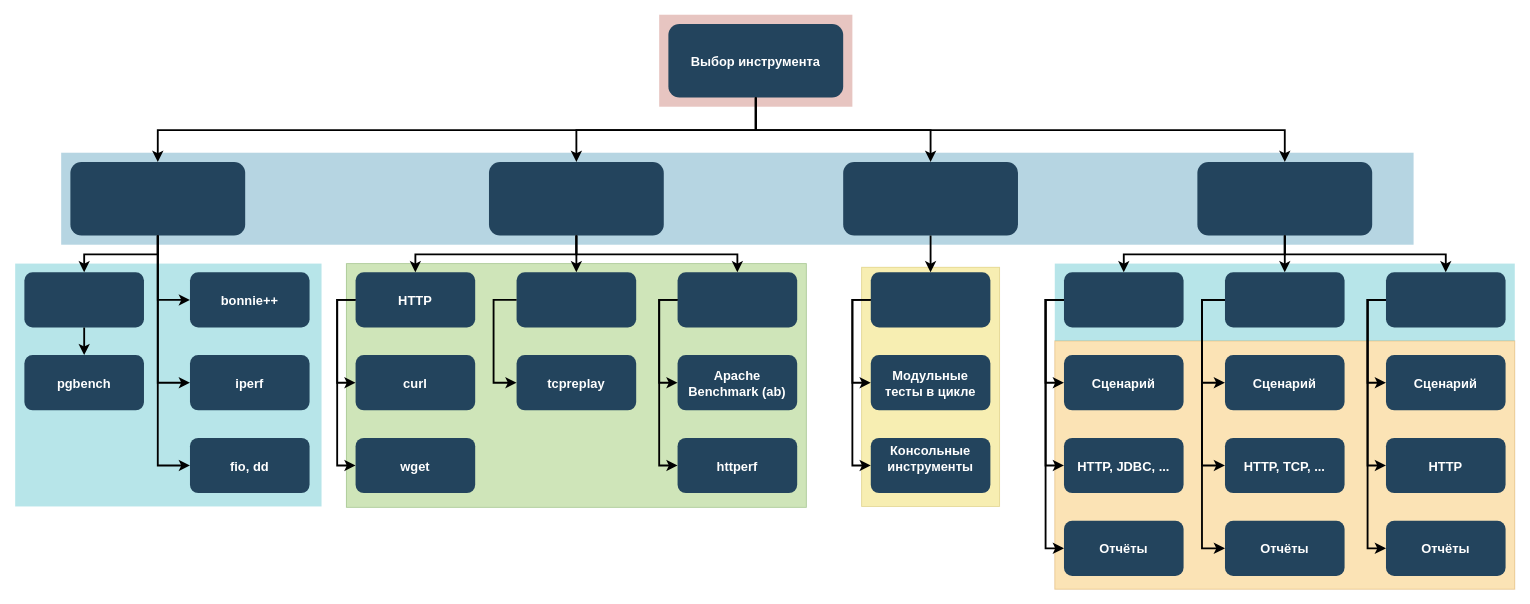
This 1530x604 diagram has some shape labels left out. Each missing label, with the centre of its shape:
"Apache.JMeter" belongs at pixel 1123 299.
"Gatling" belongs at pixel 1284 299.
"HTTP (с потоками)" belongs at pixel 737 299.
"MySQL Sysbench Benchmark" belongs at pixel 84 299.
"TCP" belongs at pixel 576 299.
"Yandex.Tank" belongs at pixel 1445 299.
"Нагрузка на инфраструктуру" belongs at pixel 157 198.
"Нагрузка статическими запросами" belongs at pixel 576 198.
"Нагрузка сценариями" belongs at pixel 930 198.
"Нагрузка сценариями с отчётами" belongs at pixel 1284 198.
"Самописные утилиты" belongs at pixel 930 299.
